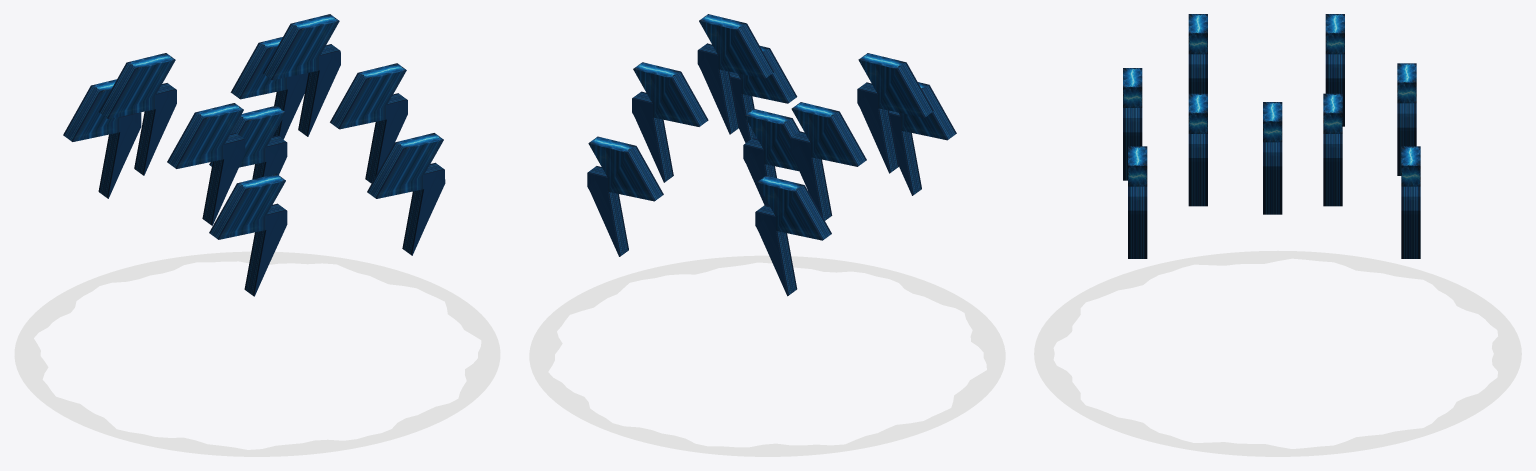
The model's file is hechizoRayyo.fbx.
3 views of the same model, side by side, from view 1: azimuth 30°, elevation 25°; view 2: azimuth 150°, elevation 25°; view 3: azimuth 270°, elevation 25° (orthographic). The views are drawn at different scales.
Parts seen in each view (by area): view 1: RingWave003, Box026, Box029, Box024, Box031, Box028, Box030, Box025, Box022, Box027; view 2: RingWave003, Box030, Box025, Box029, Box022, Box031, Box028, Box027, Box026, Box024; view 3: RingWave003, Box031, Box030, Box024, Box027, Box022, Box025, Box026, Box028, Box029.
Boxes of the visible parts, x1,y1,x2,y2 form: RingWave003: (14, 251, 500, 456); Box026: (209, 173, 287, 296); Box029: (167, 103, 245, 225); Box024: (367, 133, 445, 255); Box031: (262, 14, 340, 136); Box028: (99, 53, 176, 175); Box030: (330, 63, 407, 183); Box025: (63, 79, 141, 198); Box022: (230, 37, 308, 139); Box027: (209, 105, 287, 179); RingWave003: (529, 255, 1005, 456); Box030: (697, 14, 773, 134); Box025: (755, 175, 831, 296); Box029: (857, 53, 933, 173); Box022: (587, 136, 663, 256); Box031: (632, 62, 708, 182); Box028: (790, 102, 866, 220); Box027: (743, 109, 799, 205); Box026: (889, 82, 956, 195); Box024: (729, 46, 797, 143); RingWave003: (1034, 250, 1521, 456); Box031: (1323, 93, 1342, 206); Box030: (1188, 93, 1207, 206); Box024: (1128, 146, 1147, 258); Box027: (1263, 102, 1282, 214); Box022: (1401, 146, 1420, 258); Box025: (1397, 63, 1416, 175); Box026: (1123, 68, 1142, 180); Box028: (1325, 14, 1344, 126); Box029: (1188, 14, 1207, 93).
Bounding box in the file's own units: 2 × 1.32 × 2.
2 materials, 1 textured.
